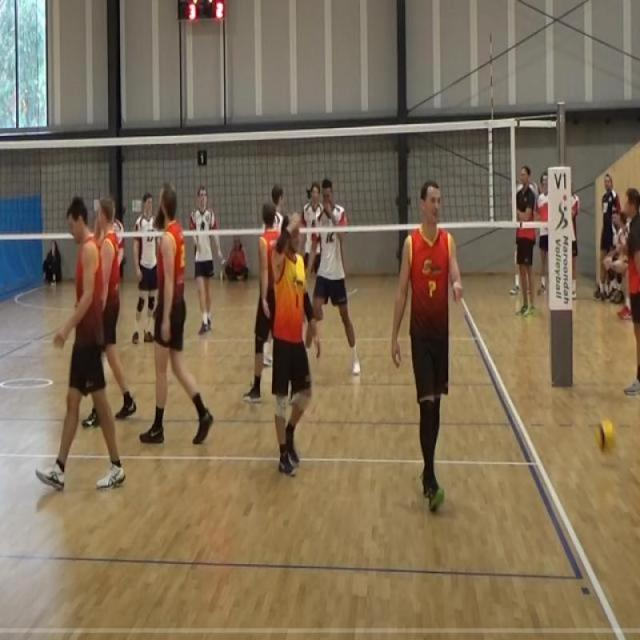volleyball: (592, 416, 619, 460)
